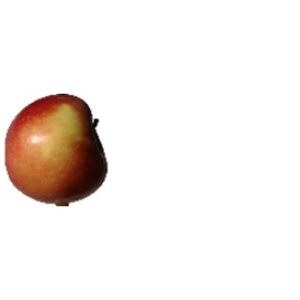maçã braeburn: (3, 90, 114, 209)
